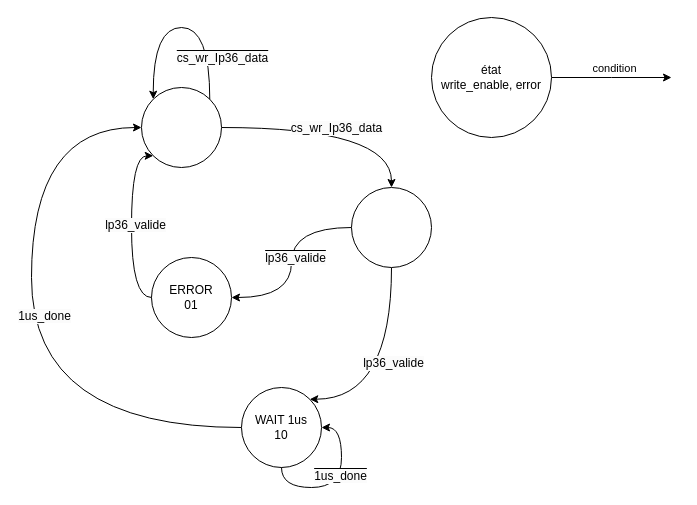
The diagram is 697 pixels wide and 505 high, and some of its shapes have lost their labels. The shapes that lost their labels are listed below. From the top down, each one's centre as x and y in pixels, then its label:
At point 181,127: "ATT 00".
At point 391,227: "GET DATA 00".
